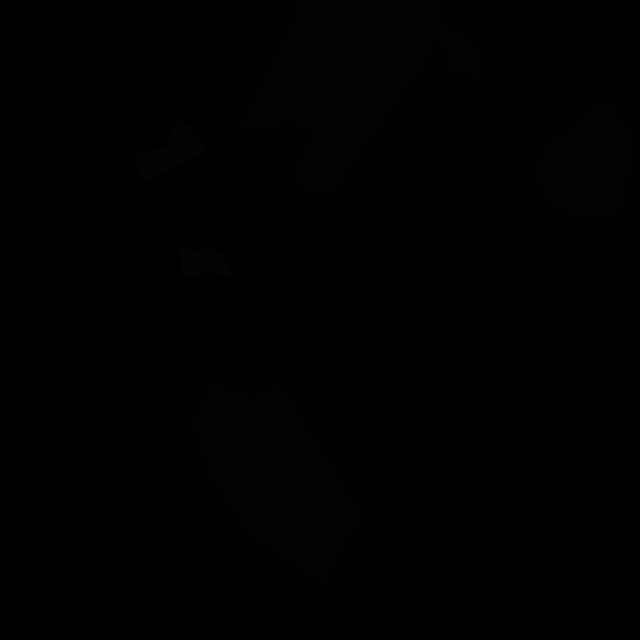cardboard: (235, 1, 488, 197), (189, 375, 364, 585), (533, 101, 637, 221)
soft_plastic: (130, 119, 208, 182), (180, 245, 232, 279)
